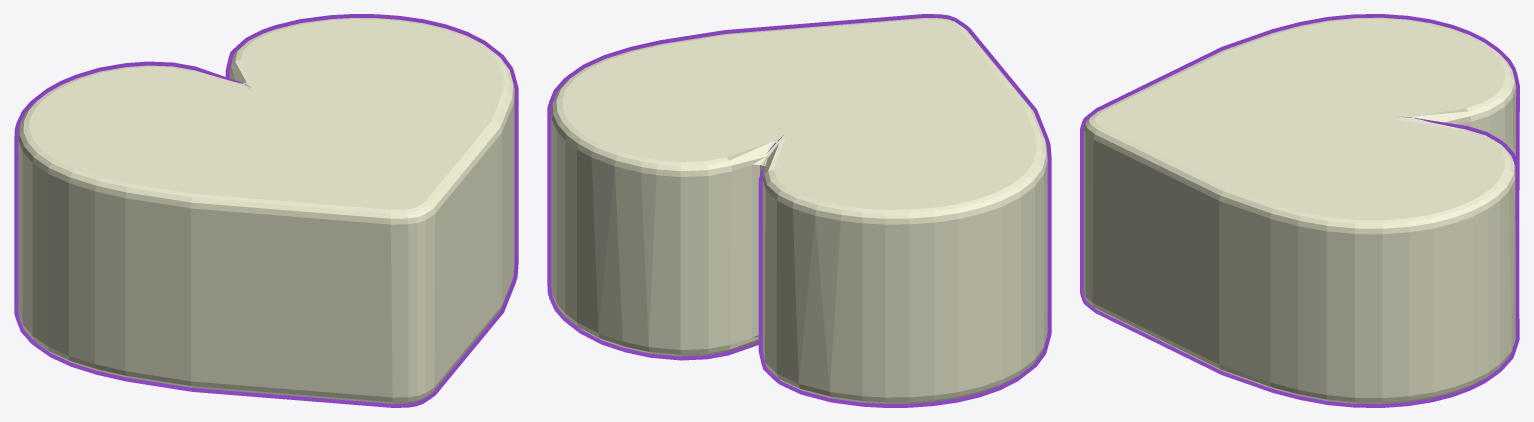
File: coracao bolo.glb
3 renders of one model, left to right at view 1: azimuth 30°, elevation 25°; view 2: azimuth 150°, elevation 25°; view 3: azimuth 270°, elevation 25°, orthographic. The views are drawn at different scales.
Parts seen in each view (by area): view 1: Circle; view 2: Circle; view 3: Circle.
Part boxes in pixels (x1=…): Circle: x1=14, y1=14, x2=518, y2=407; Circle: x1=547, y1=14, x2=1051, y2=407; Circle: x1=1080, y1=14, x2=1519, y2=407.
Bounding box in the file's own units: 24.16 × 10 × 21.03.
